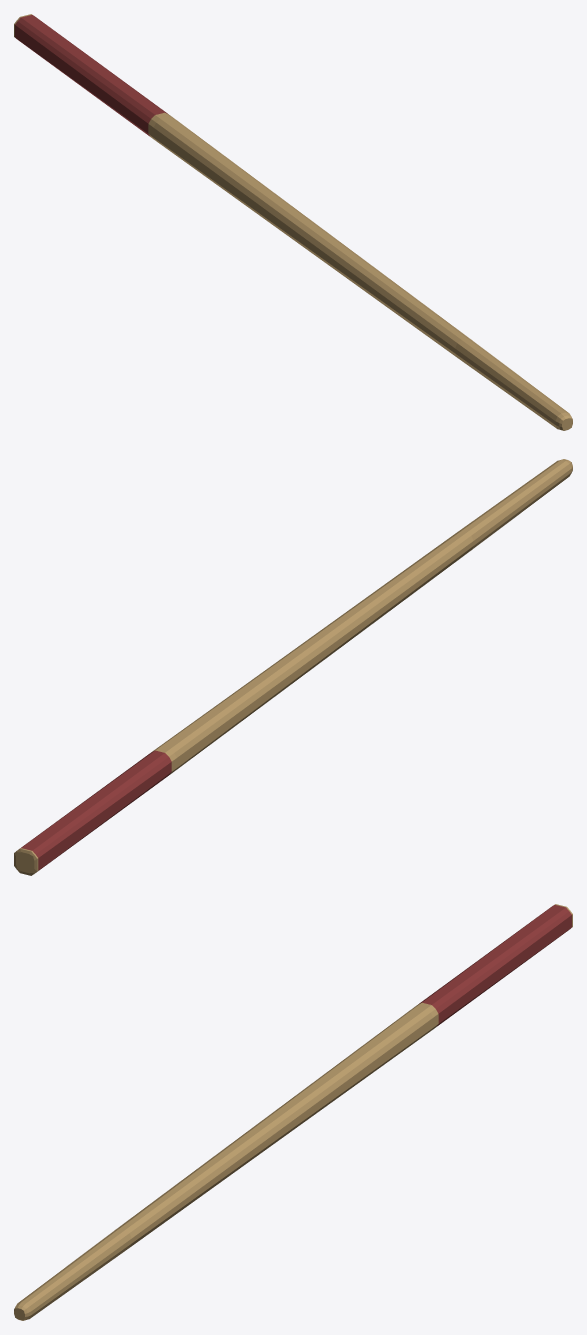
The model's file is chopstick.glb.
The picture shows the model from 3 angles, top to bottom: view 1: azimuth 30°, elevation 25°; view 2: azimuth 150°, elevation 25°; view 3: azimuth 330°, elevation 25°; orthographic projection.
Parts seen in each view (by area): view 1: Cylinder; view 2: Cylinder; view 3: Cylinder.
Boxes of the visible parts, x1,y1,x2,y2 form: Cylinder: [14, 14, 572, 430]; Cylinder: [14, 459, 572, 875]; Cylinder: [14, 904, 572, 1320].
Size of the model in its own units: 0.1478 by 0.1478 by 5.95.
